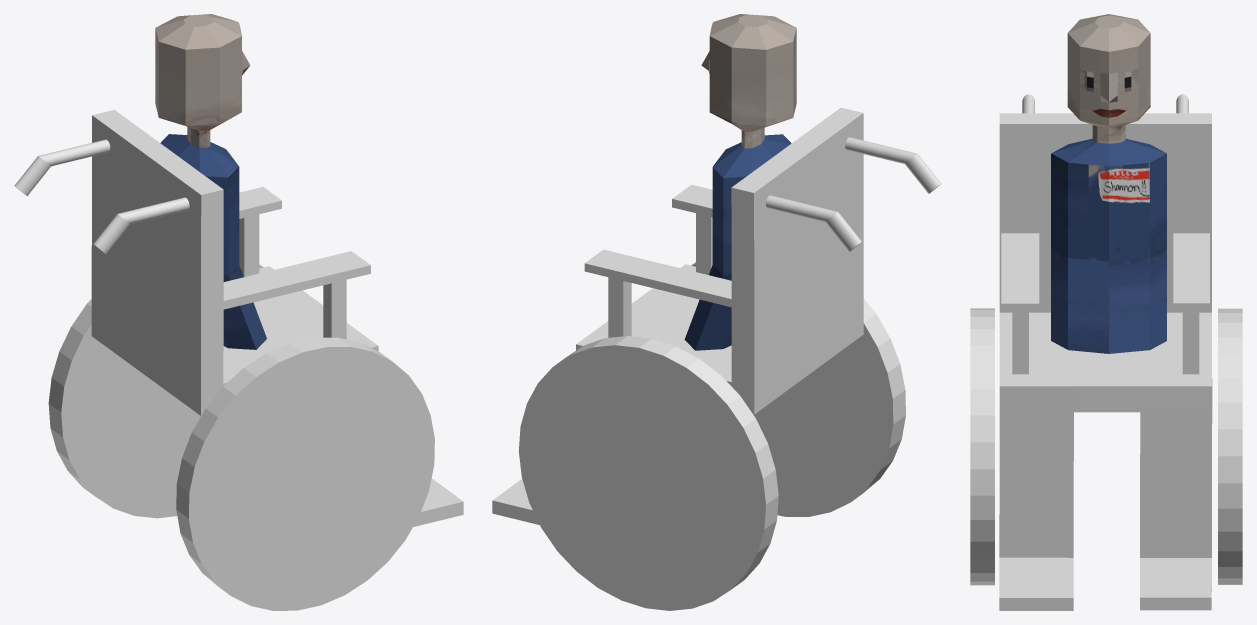
The model's file is managermovewheels.fbx.
3 views of the same model, side by side, from view 1: azimuth 30°, elevation 25°; view 2: azimuth 150°, elevation 25°; view 3: azimuth 270°, elevation 25° (orthographic). The views are drawn at different scales.
Visible parts, largest first — view 1: Wheel, Base, Wheel.001, Cylinder, Handle, Handle.001; view 2: Wheel.001, Base, Wheel, Cylinder, Handle, Handle.001; view 3: Base, Cylinder, Wheel, Wheel.001.
Part boxes in pixels (x1,y1,x2,y2): Wheel: [176, 337, 434, 610]; Base: [91, 110, 463, 526]; Wheel.001: [48, 264, 263, 518]; Cylinder: [155, 14, 266, 349]; Handle: [93, 197, 189, 254]; Handle.001: [14, 139, 110, 195]; Wheel.001: [518, 336, 778, 610]; Base: [492, 107, 863, 524]; Wheel: [691, 262, 905, 516]; Cylinder: [684, 14, 796, 350]; Handle: [845, 137, 941, 193]; Handle.001: [766, 195, 861, 251]; Base: [999, 113, 1212, 610]; Cylinder: [1051, 14, 1166, 353]; Wheel: [970, 308, 994, 585]; Wheel.001: [1218, 308, 1242, 584].
Bounding box in the file's own units: 2778 × 4087 × 1900.
